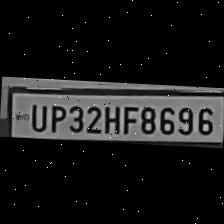2: (82, 102, 103, 134)
3: (64, 101, 85, 133)
6: (192, 104, 215, 136), (155, 102, 176, 136)
8: (136, 102, 157, 136)
9: (172, 102, 193, 135)
F: (118, 102, 137, 134)
H: (100, 101, 121, 135)
P: (45, 101, 66, 133)
U: (26, 100, 48, 132)
